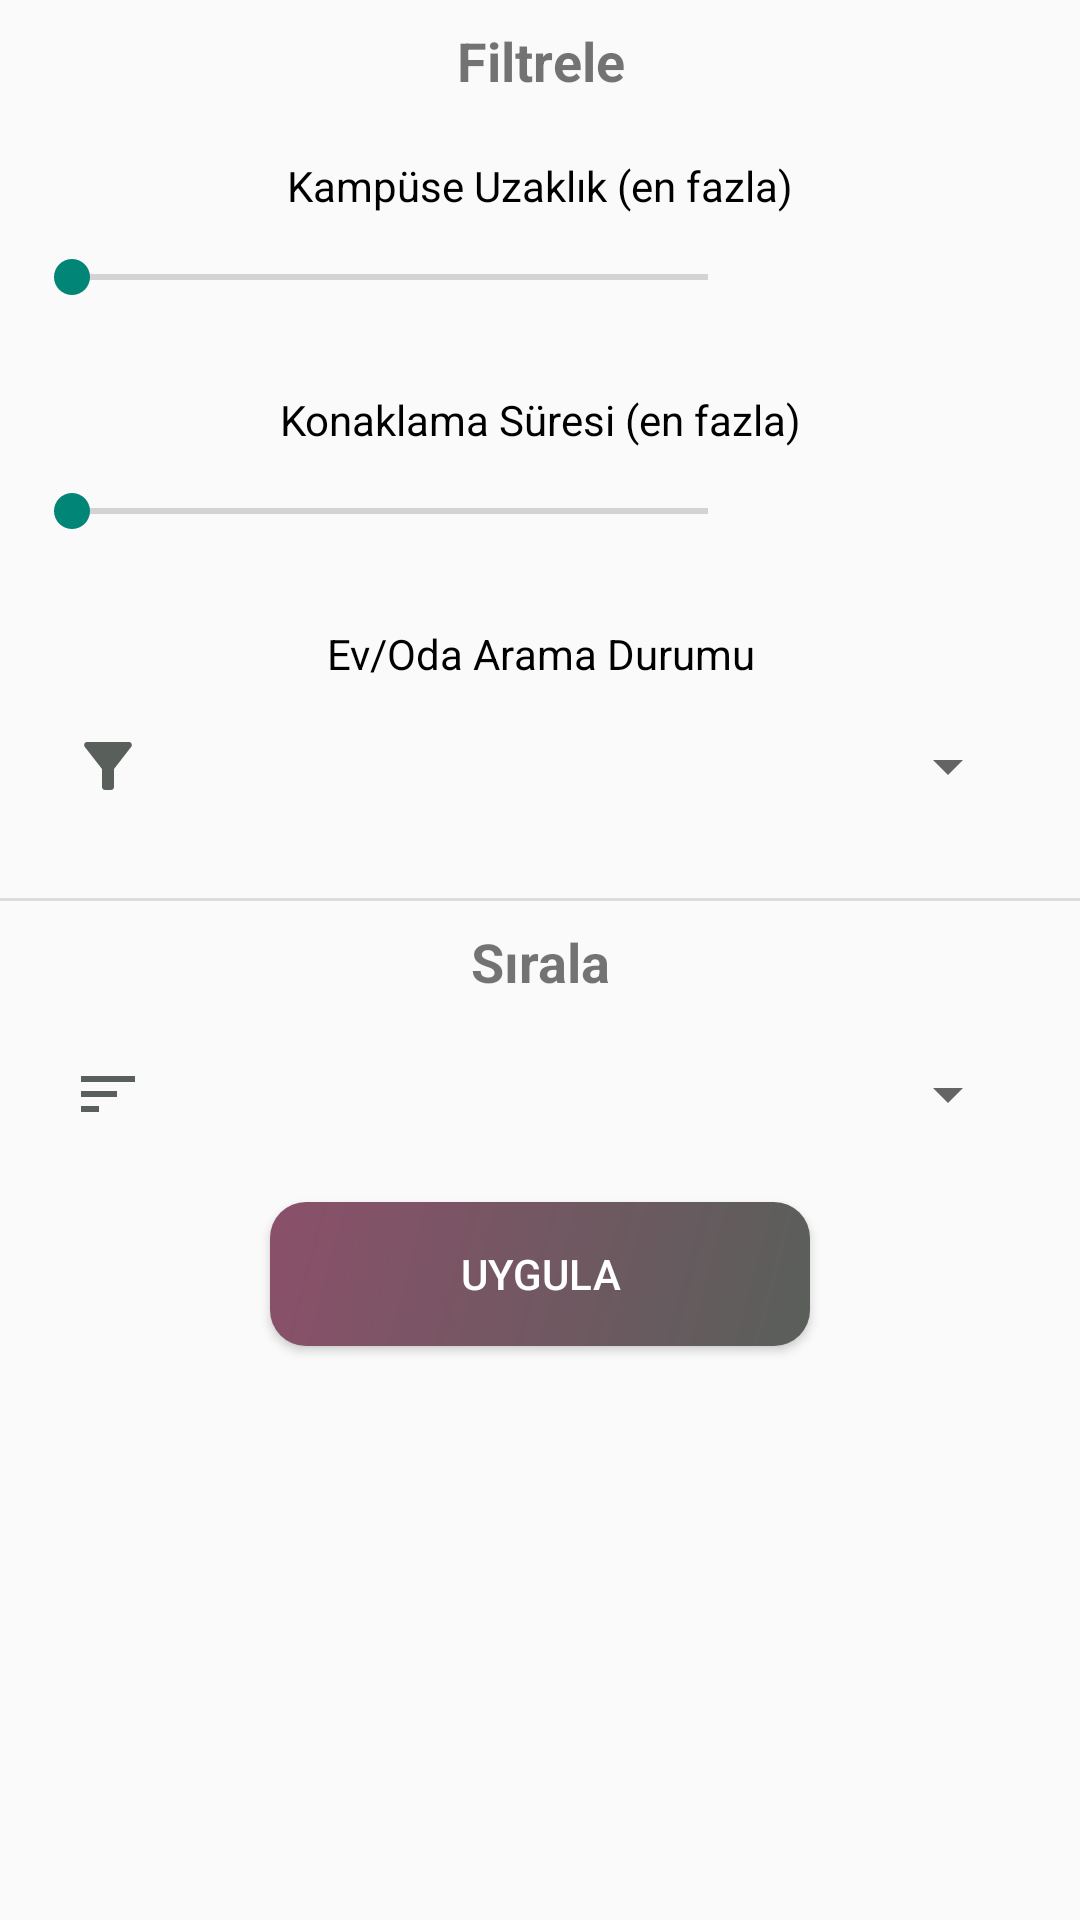

Screen size 1080 × 1920. Icon name, then its center in pixels as (x=x, y=y):
Geçerli Arama Durumunuz: (x=108, y=766)
